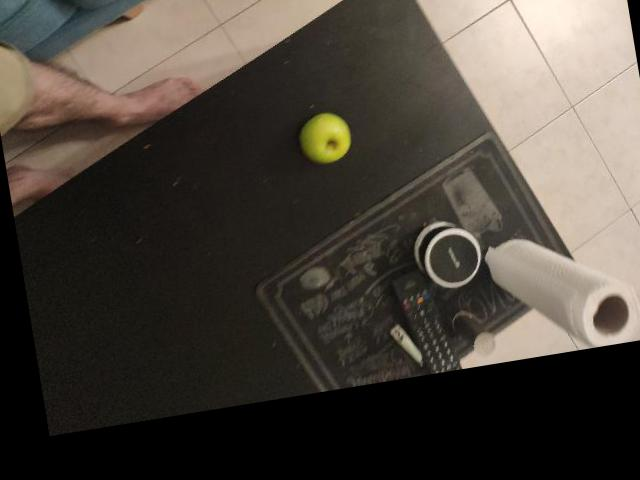apple: (361, 2, 437, 90)
